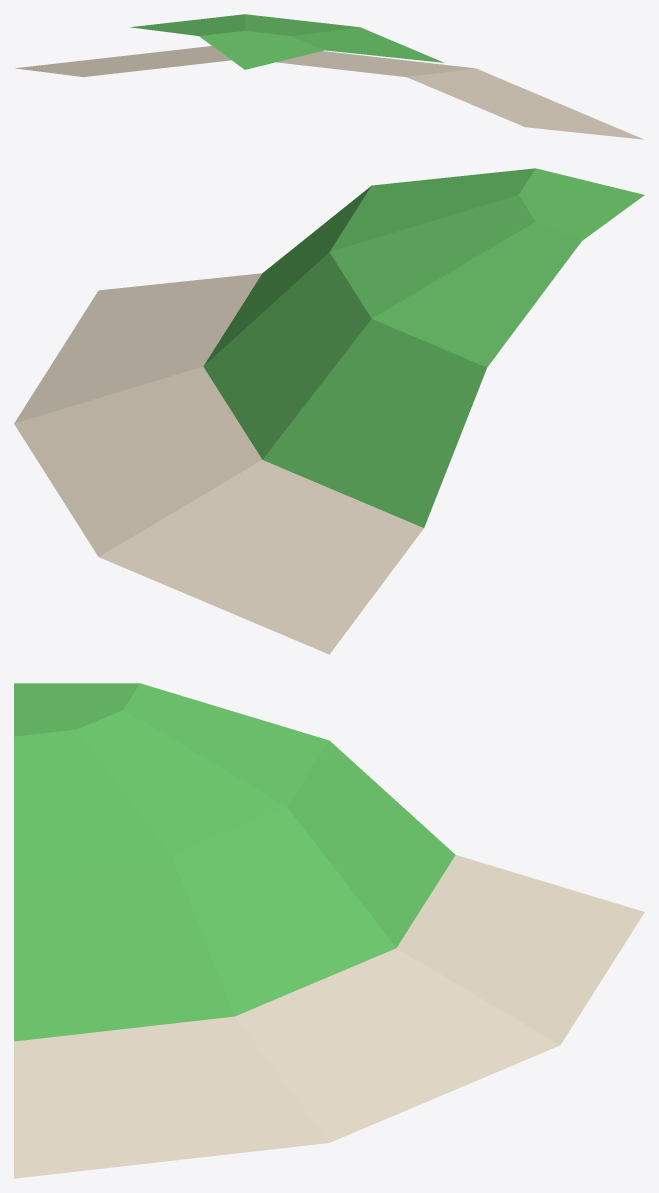
Rendered from Hilly_Terrain_Path_Corner_Inner_1x1.glb.
3 renders of one model, top to bottom at view 1: azimuth 30°, elevation 25°; view 2: azimuth 150°, elevation 25°; view 3: azimuth 270°, elevation 25°, orthographic. The views are drawn at different scales.
Parts seen in each view (by area): view 1: Hilly_Terrain_Path_Corner_Inner_1x1; view 2: Hilly_Terrain_Path_Corner_Inner_1x1; view 3: Hilly_Terrain_Path_Corner_Inner_1x1.
Boxes of the visible parts, x1,y1,x2,y2 form: Hilly_Terrain_Path_Corner_Inner_1x1: (15, 14, 643, 139); Hilly_Terrain_Path_Corner_Inner_1x1: (14, 168, 644, 654); Hilly_Terrain_Path_Corner_Inner_1x1: (14, 683, 644, 1178).
Bounding box in the file's own units: 0.5 × 0.2 × 0.5.
